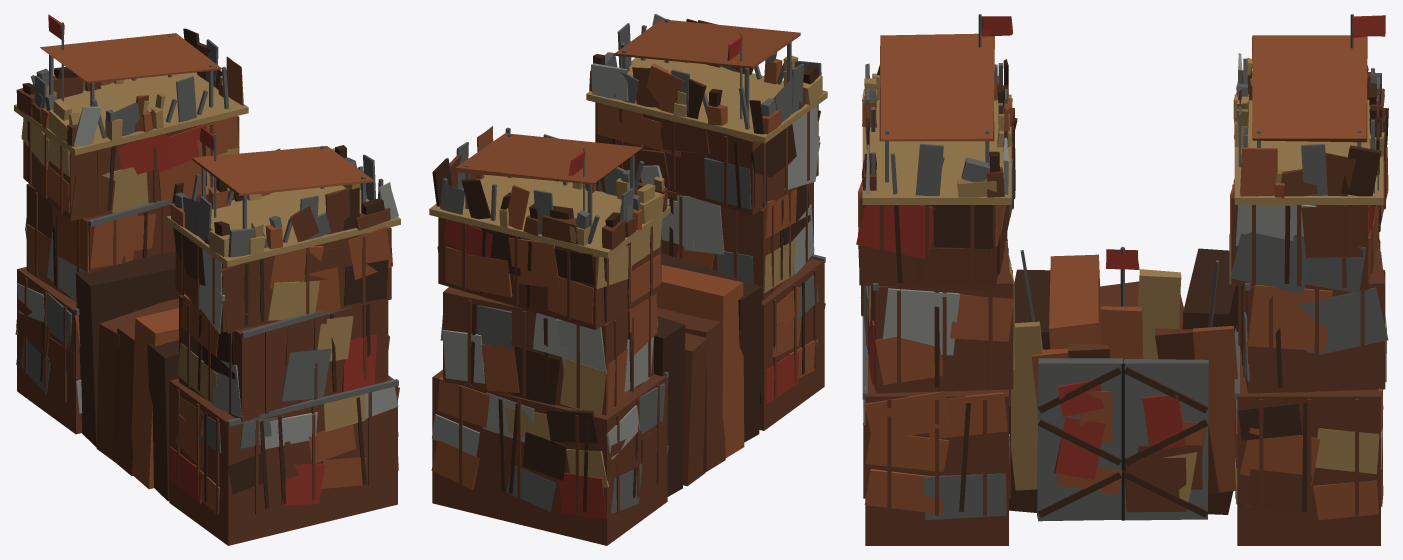
The model's file is fort_scrap_gate.glb.
3 views of the same model, side by side, from view 1: azimuth 30°, elevation 25°; view 2: azimuth 150°, elevation 25°; view 3: azimuth 270°, elevation 25° (orthographic). The views are drawn at different scales.
Parts seen in each view (by area): view 1: fort_scrap_gate; view 2: fort_scrap_gate; view 3: fort_scrap_gate.
Boxes of the visible parts, x1,y1,x2,y2 form: fort_scrap_gate: (14, 14, 400, 545); fort_scrap_gate: (429, 14, 827, 545); fort_scrap_gate: (856, 14, 1388, 545).
Bounding box in the file's own units: 9.53 × 18.85 × 20.05.
